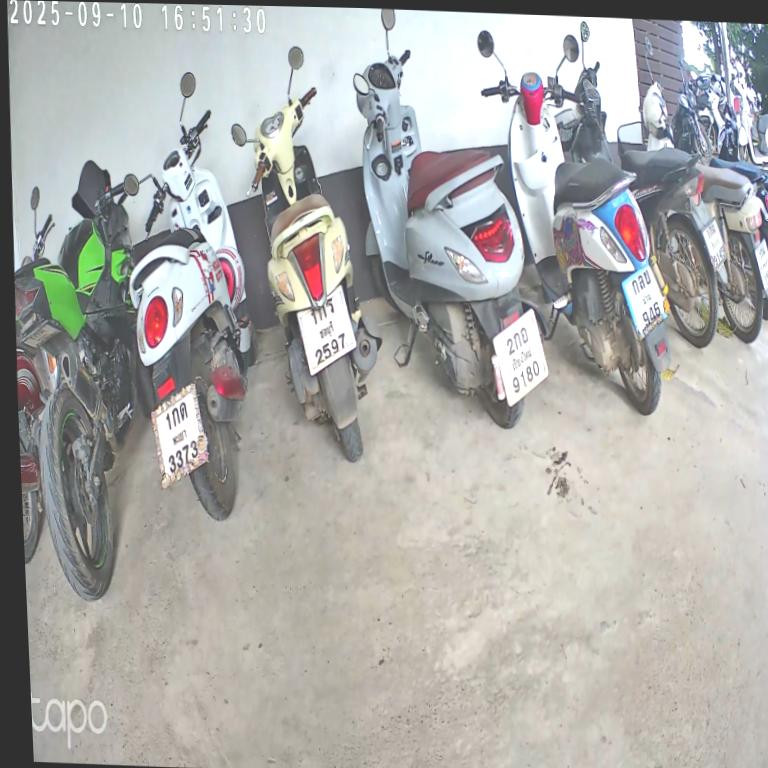license plate: (140, 368, 215, 495), (286, 274, 362, 385), (485, 298, 555, 407), (617, 254, 676, 341), (699, 213, 731, 274), (748, 234, 768, 293)
